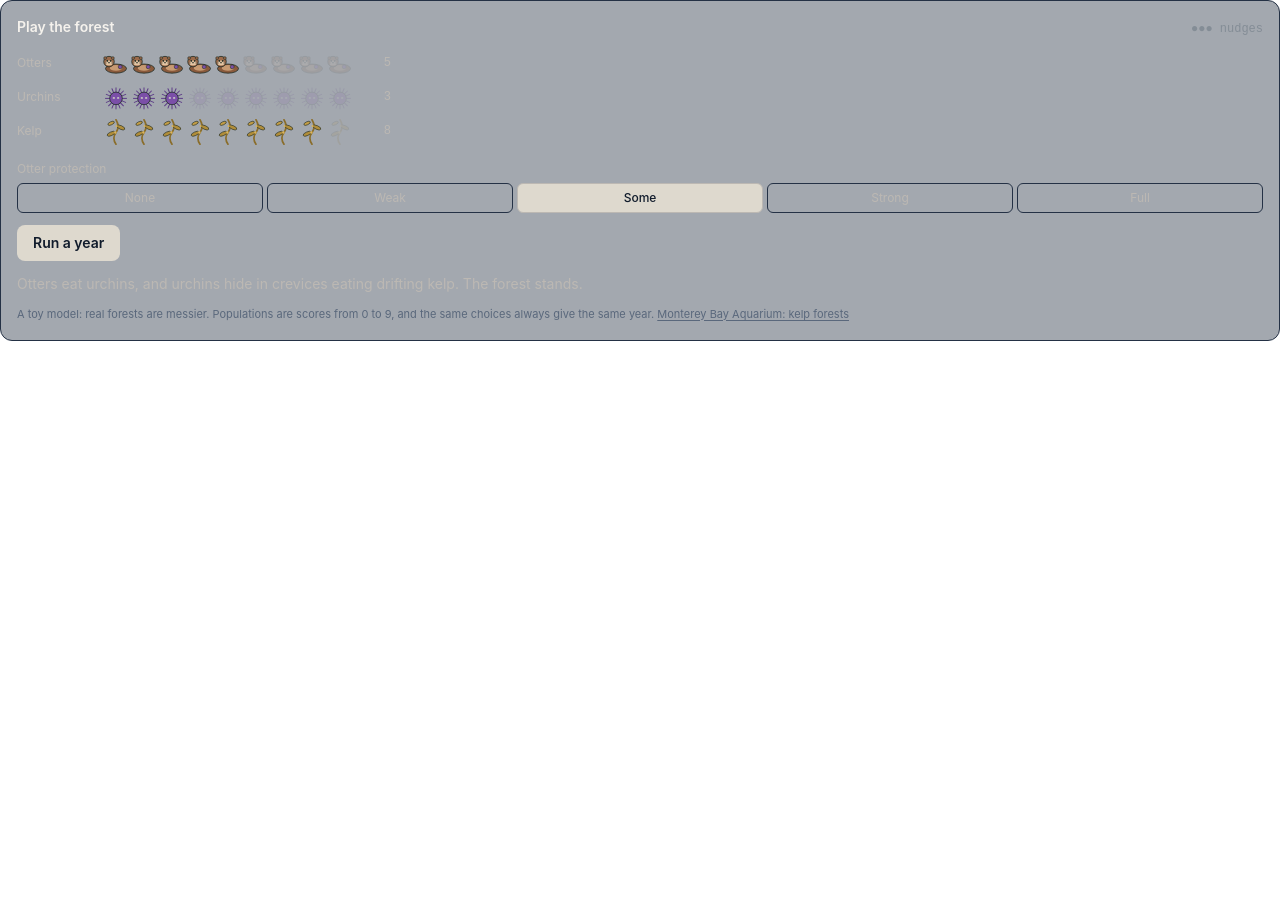
Scenario: KelpPlay › moves the lever, runs a year, and reads out the chain reaction and the leverage score
The width and height of the screenshot is (1280, 900).
Click the radio button labelled "None": click(140, 198) [17, 183, 263, 213]
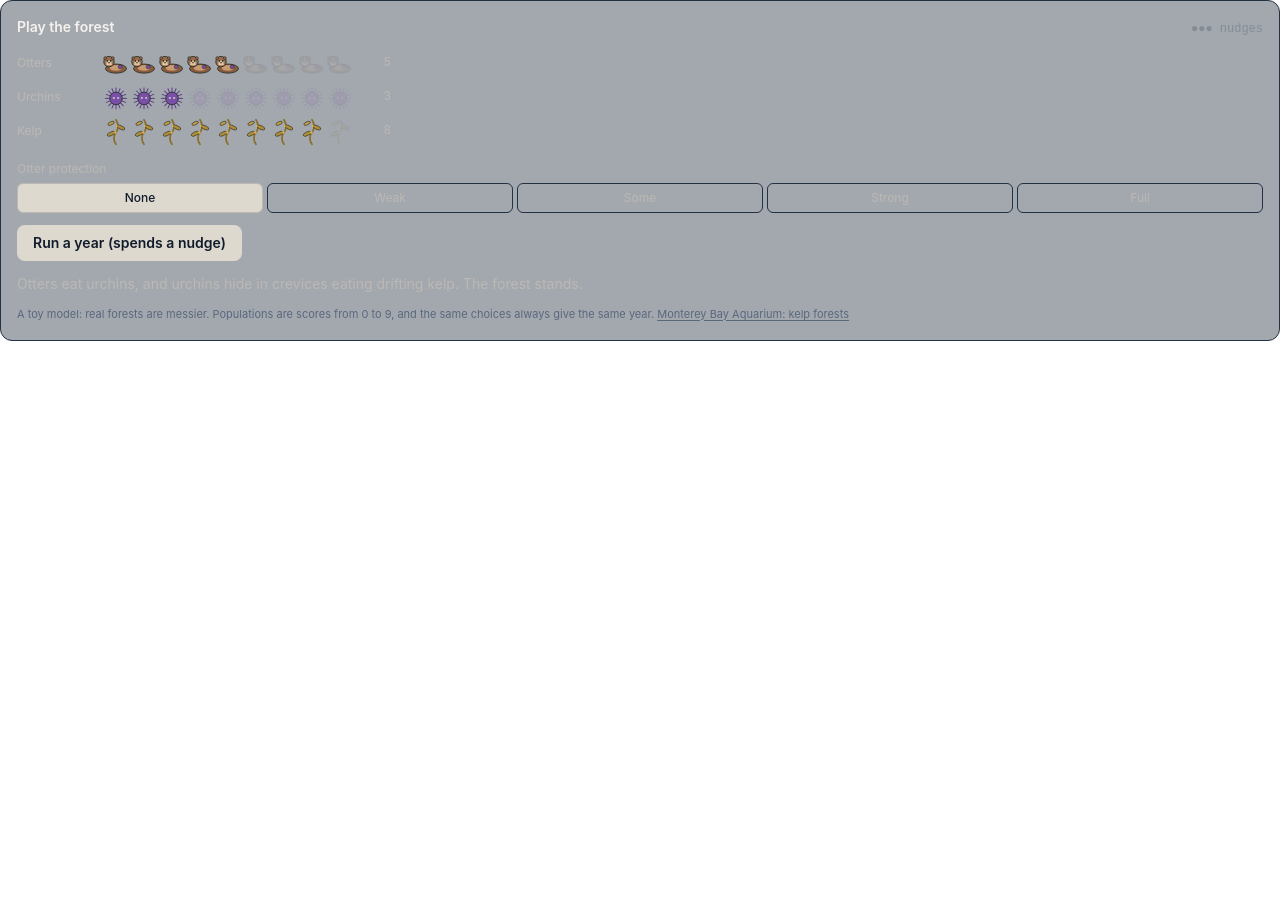
Click the button "Run a year (spends a nudge)": click(129, 243) [17, 225, 242, 261]
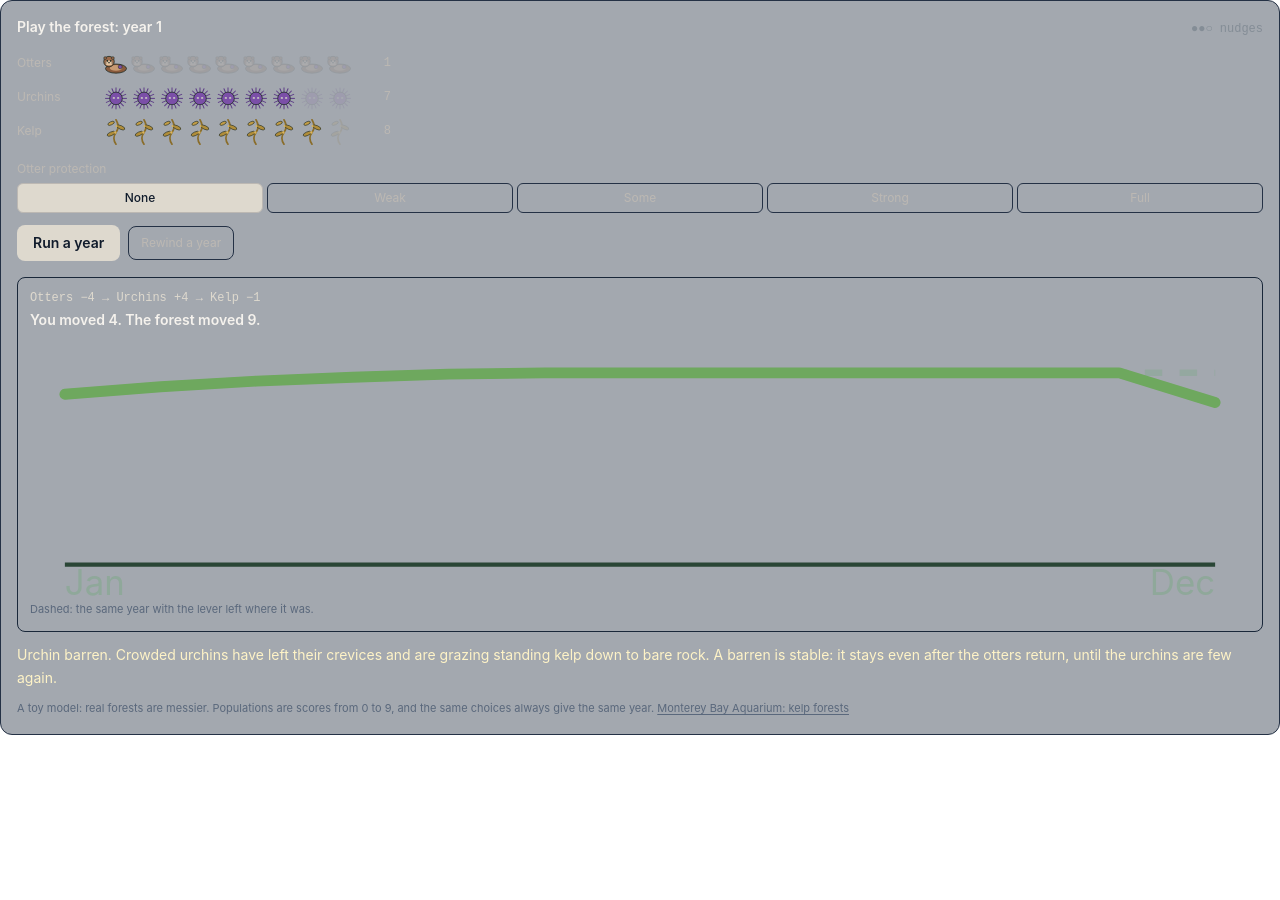
Expected: the text named "2 of 3 nudges" is shown, [1191, 21, 1263, 37]
Expected: the text "Otters −4 → Urchins +4 → Kelp −1" is shown, [30, 291, 260, 305]
Expected: the text "You moved 4. The forest moved 9." is shown, [30, 311, 260, 328]
Click the button "Rewind a year": click(181, 243) [128, 226, 234, 260]
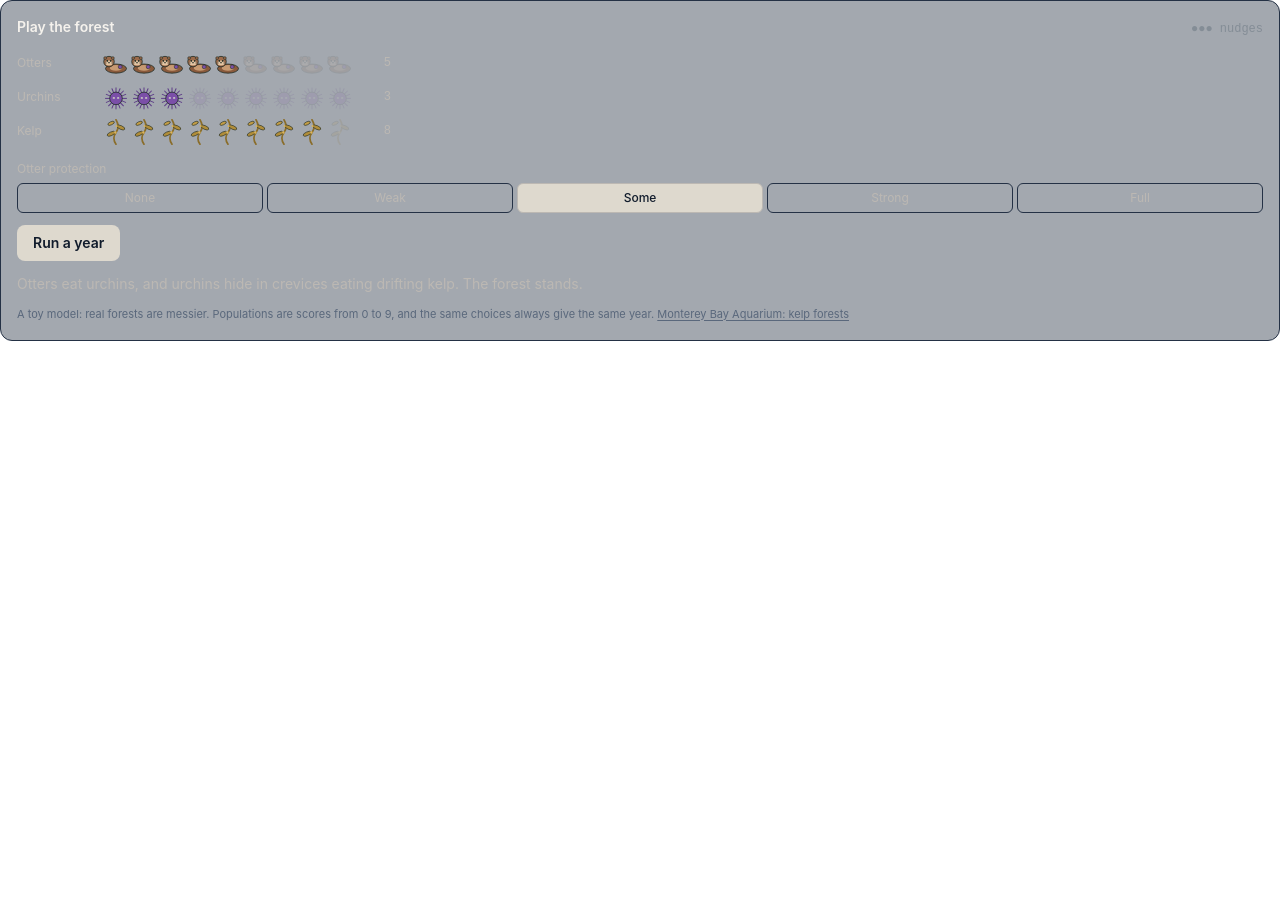
Expected: the text named "3 of 3 nudges" is shown, [1191, 21, 1263, 37]
Expected: the text "You moved" is gone
